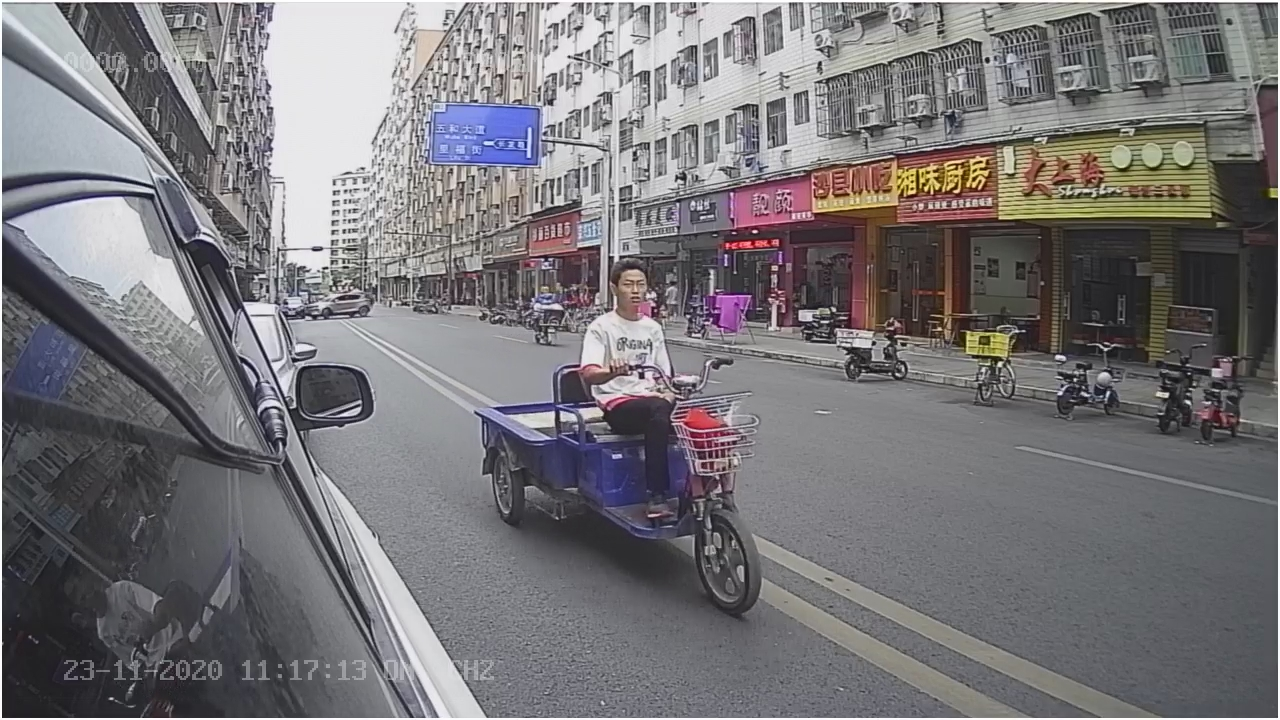person: (579, 262, 683, 363)
